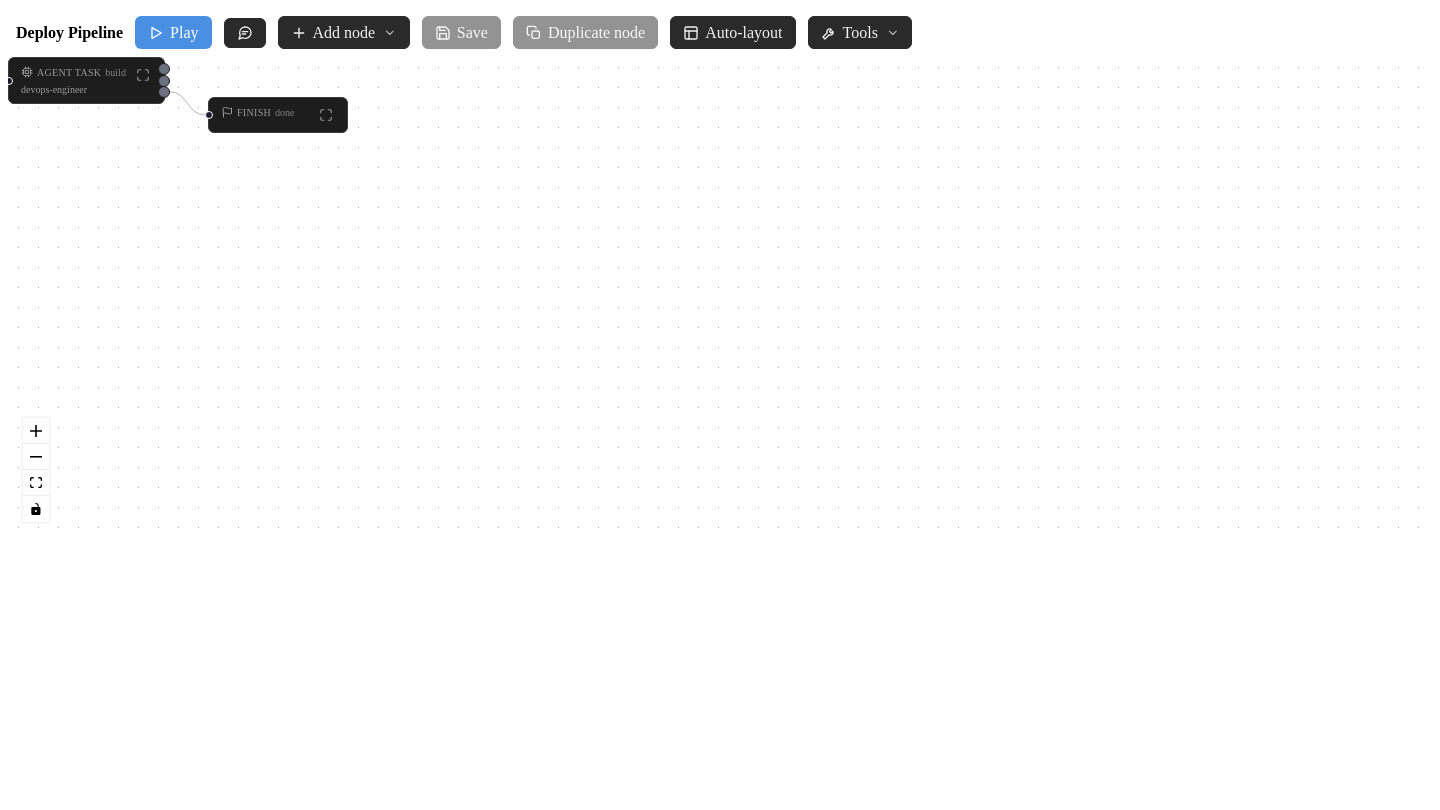
FlowEditor playback › shows an explicit error when the start is rejected
Click the button "Play" at (173, 33), box [135,16,212,49]
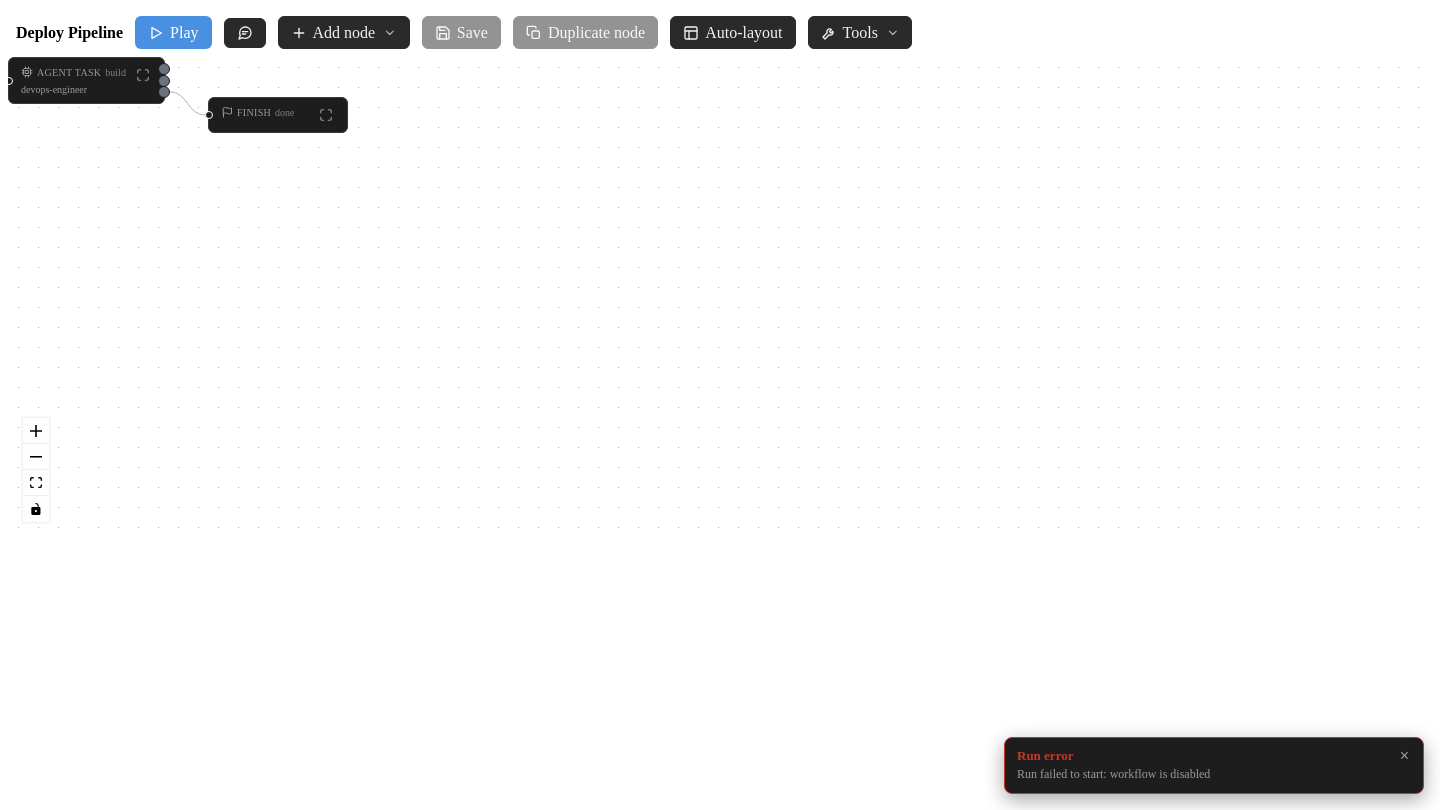
expect the dialog with test id "playback-error-toast" shows "workflow is disabled": met, box [1017,767,1210,781]
